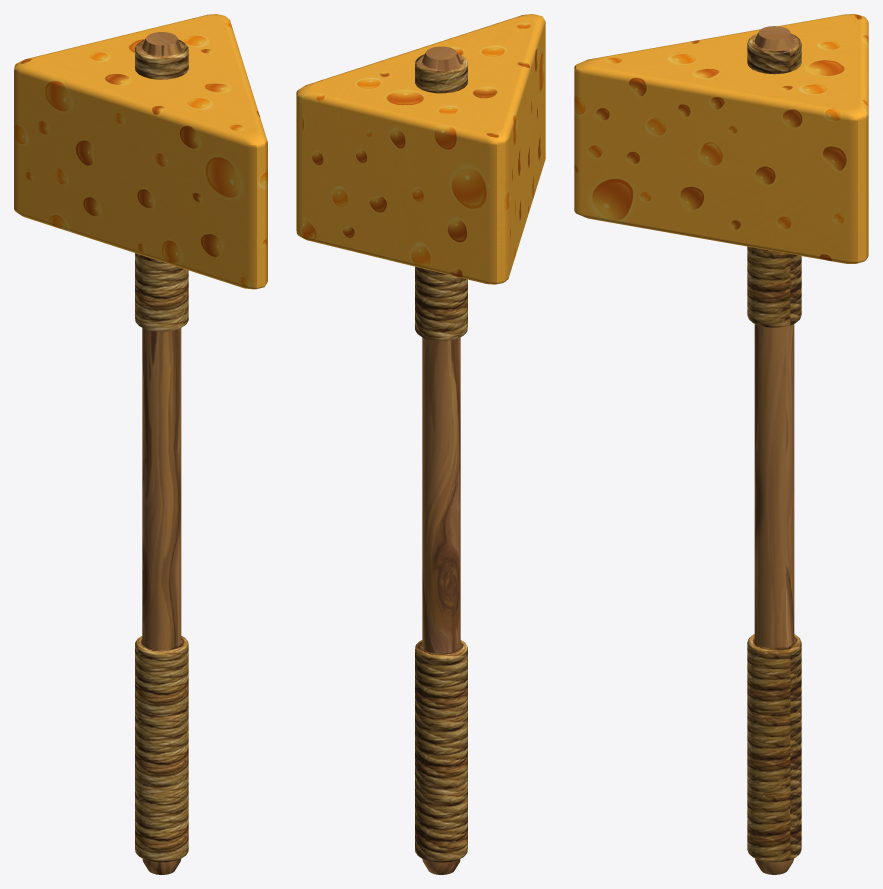
File: Cheese_Hammer.fbx
The picture shows the model from 3 angles, left to right: view 1: azimuth 30°, elevation 25°; view 2: azimuth 150°, elevation 25°; view 3: azimuth 270°, elevation 25°; orthographic projection. The views are drawn at different scales.
Parts seen in each view (by area): view 1: CheeseHammer; view 2: CheeseHammer; view 3: CheeseHammer.
Boxes of the visible parts, bbox=[...] form: CheeseHammer: bbox=[14, 14, 267, 874]; CheeseHammer: bbox=[296, 14, 545, 874]; CheeseHammer: bbox=[574, 14, 868, 874].
Size of the model in its own units: 34.03 by 127 by 40.54.
Materials: 1 (1 with a texture image).
